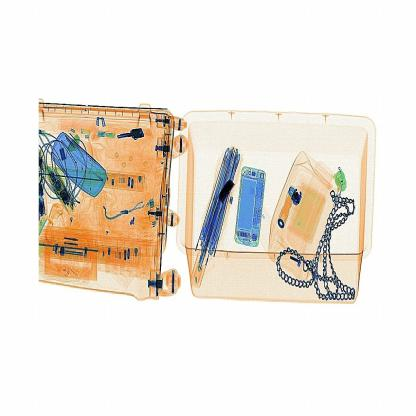scissors: (216, 175, 244, 211)
